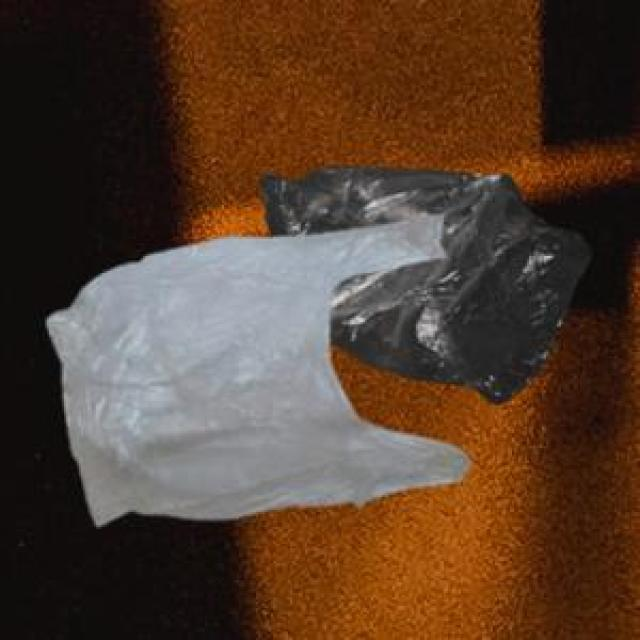waste: (48, 168, 589, 524)
